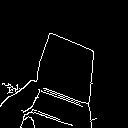cube: (28, 29, 99, 126)
